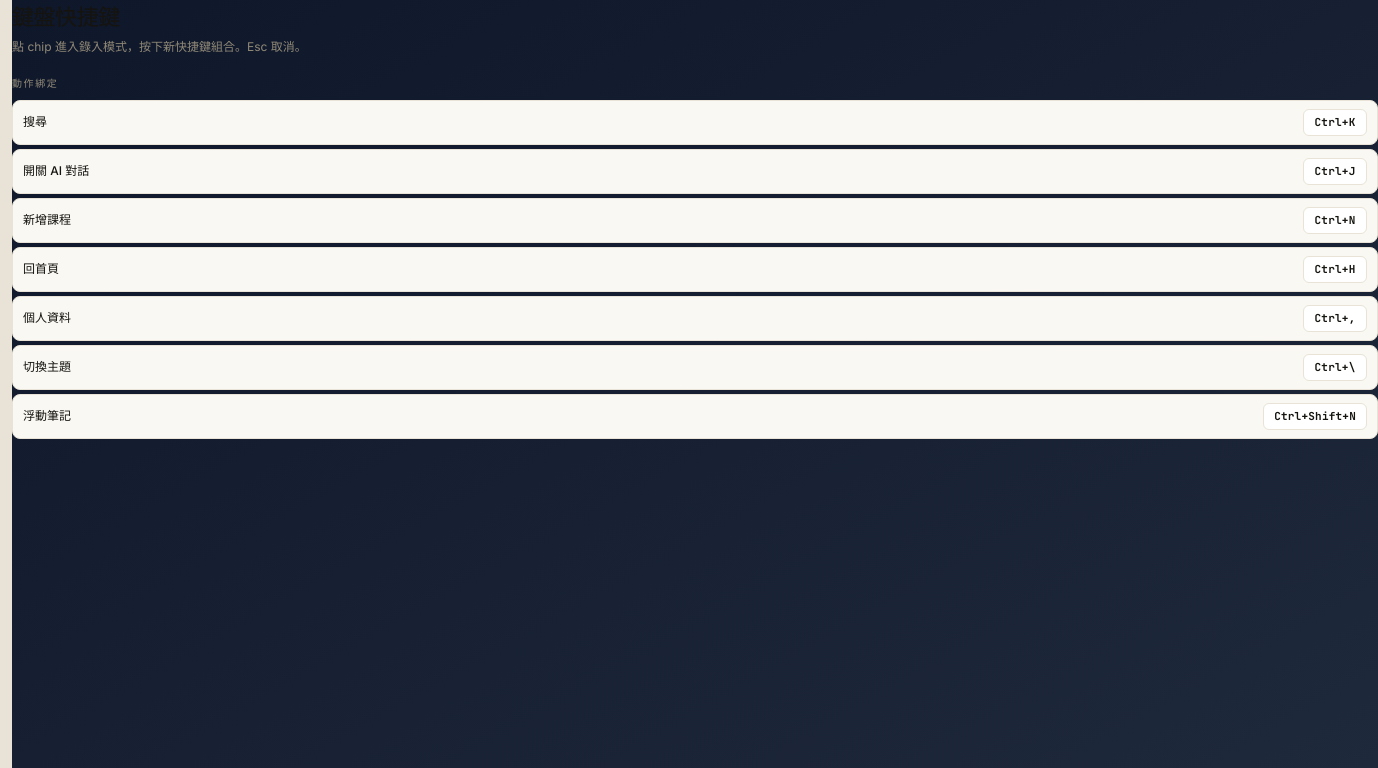
Scenario: PKeyboard · capture flow › clicking the chip switches to capturing mode
Step 1. Click the button "Ctrl+K" → (1335, 122), box x1=1303 y1=109 x2=1367 y2=136
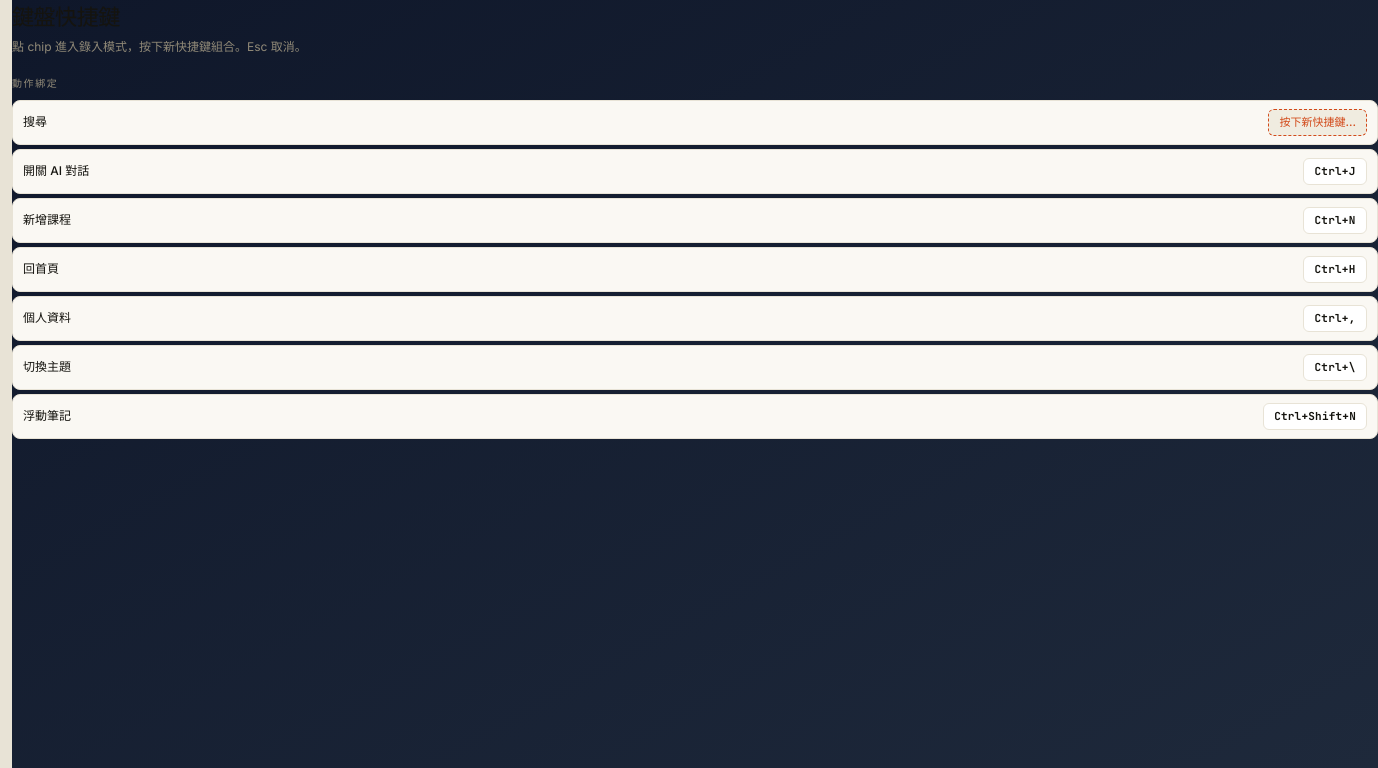
Now the text "按下新快捷鍵…" is shown, box x1=1268 y1=109 x2=1367 y2=136
